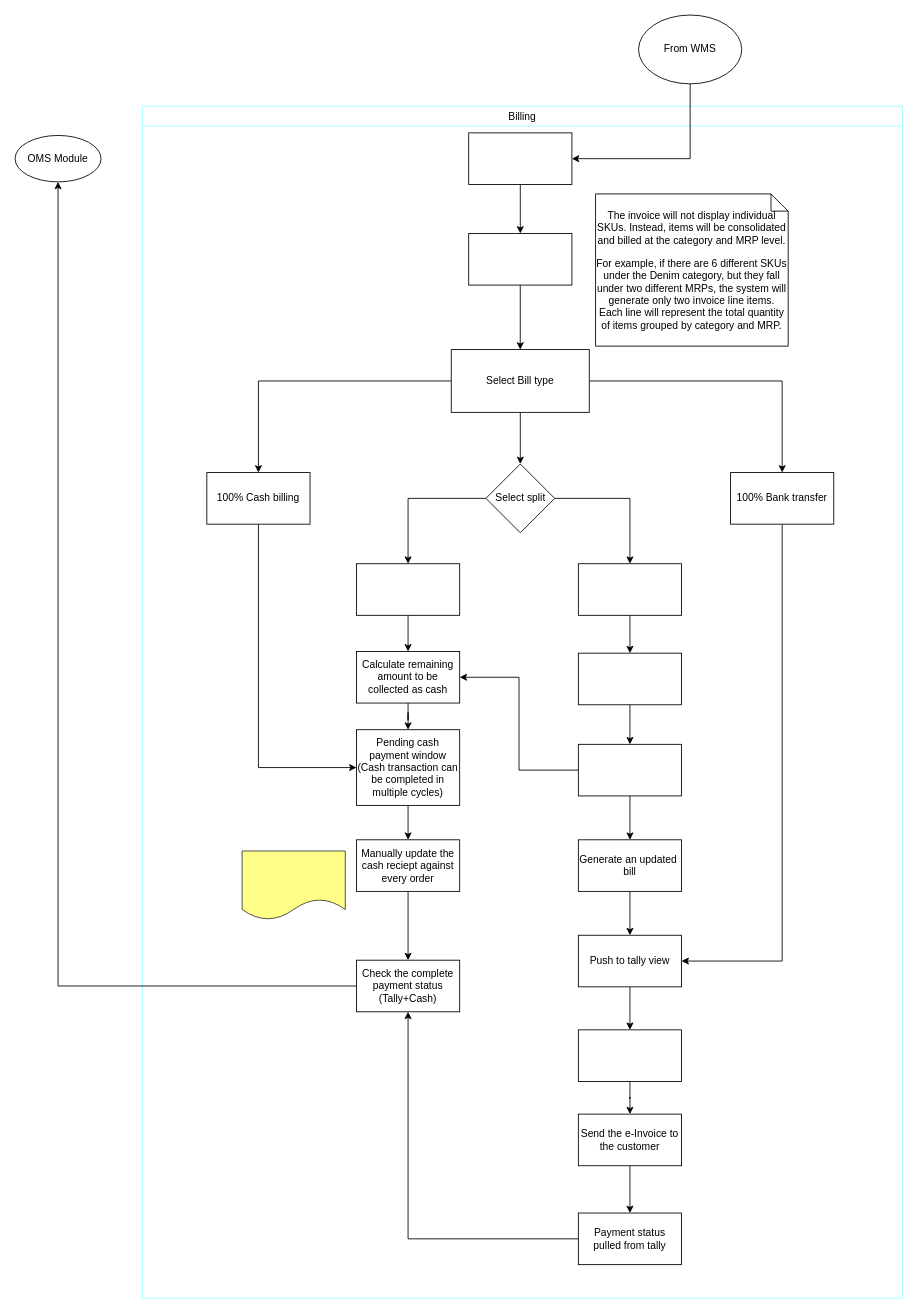
Image size: 918x1313. Some labels were removed from this diagram. Each missing label, with the box of its shape:
50% Bank transfer: (577, 563, 682, 615)
50% cash: (356, 563, 460, 615)
Calculate target taxable value = Total x 50%: (577, 652, 682, 705)
e-Invoice generation: (577, 1029, 682, 1081)
Fetch Customer details against the DO: (468, 132, 572, 184)
Generate a full bill as per the system rate: (468, 233, 572, 285)
OTP against cash payment: (241, 850, 345, 920)
Re-calculate the unit rate to sums <= Target value: (577, 743, 682, 796)
